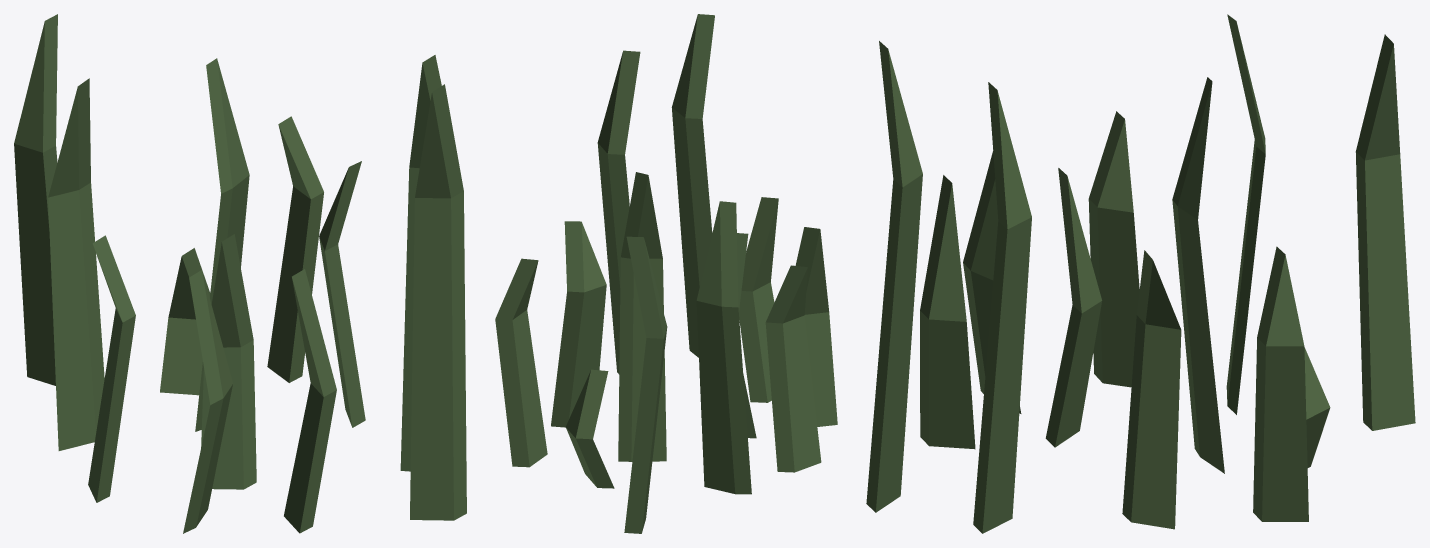
The model's file is Grass_Short.glb.
3 views of the same model, side by side, from view 1: azimuth 30°, elevation 25°; view 2: azimuth 150°, elevation 25°; view 3: azimuth 270°, elevation 25° (orthographic). The views are drawn at different scales.
Parts seen in each view (by area): view 1: Grass_Short; view 2: Grass_Short; view 3: Grass_Short.
Part boxes in pixels (x1=…): Grass_Short: x1=14, y1=14, x2=466, y2=533; Grass_Short: x1=495, y1=14, x2=837, y2=533; Grass_Short: x1=866, y1=14, x2=1415, y2=533.
Bounding box in the file's own units: 0.3162 × 0.4046 × 0.4417.
